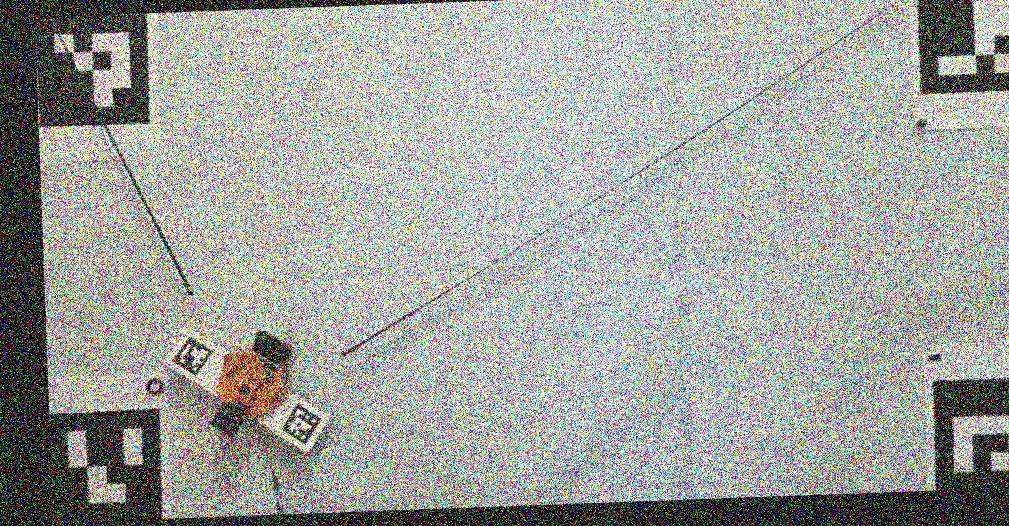robot: (214, 327, 292, 438)
